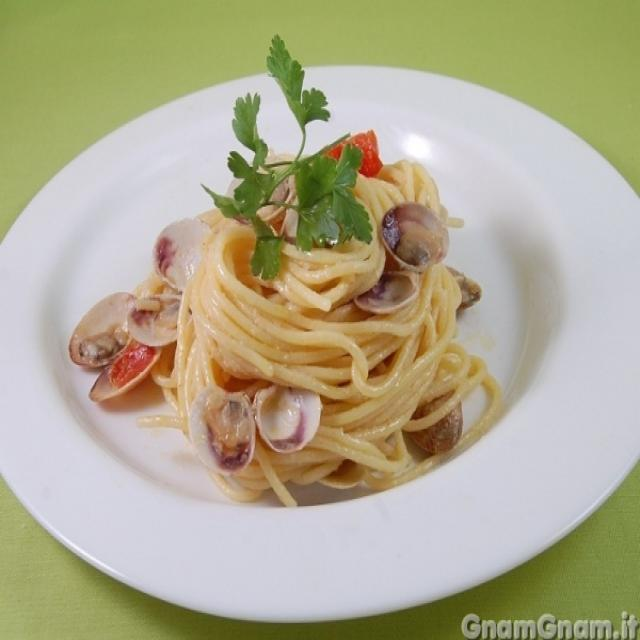Oil pasta: (111, 110, 507, 485)
